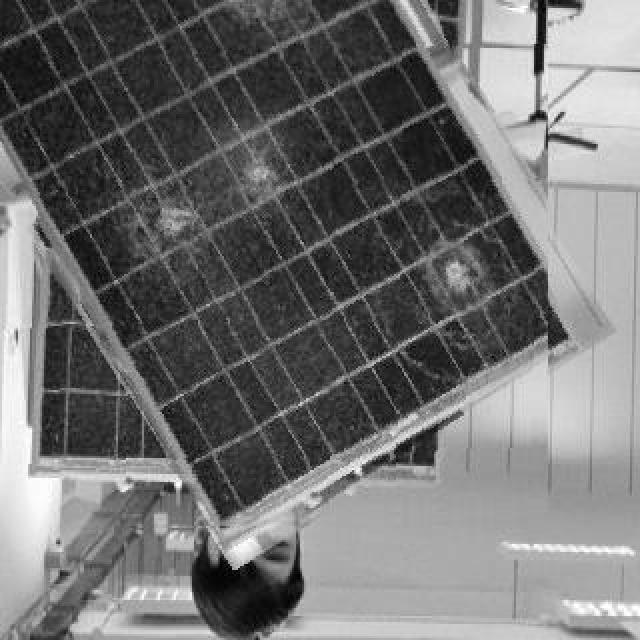Physical-damage: (403, 220, 517, 340), (136, 170, 210, 278), (228, 135, 302, 210)
